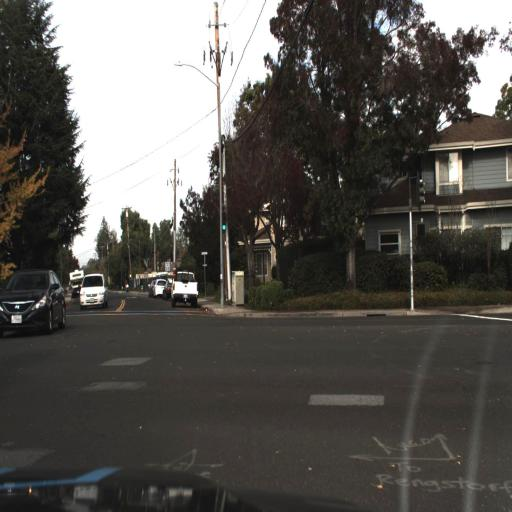car: (0, 259, 69, 340), (77, 267, 108, 313), (170, 266, 203, 309)
trafficLight-Green: (217, 203, 231, 241), (219, 204, 229, 239)
truck: (65, 265, 82, 303)
